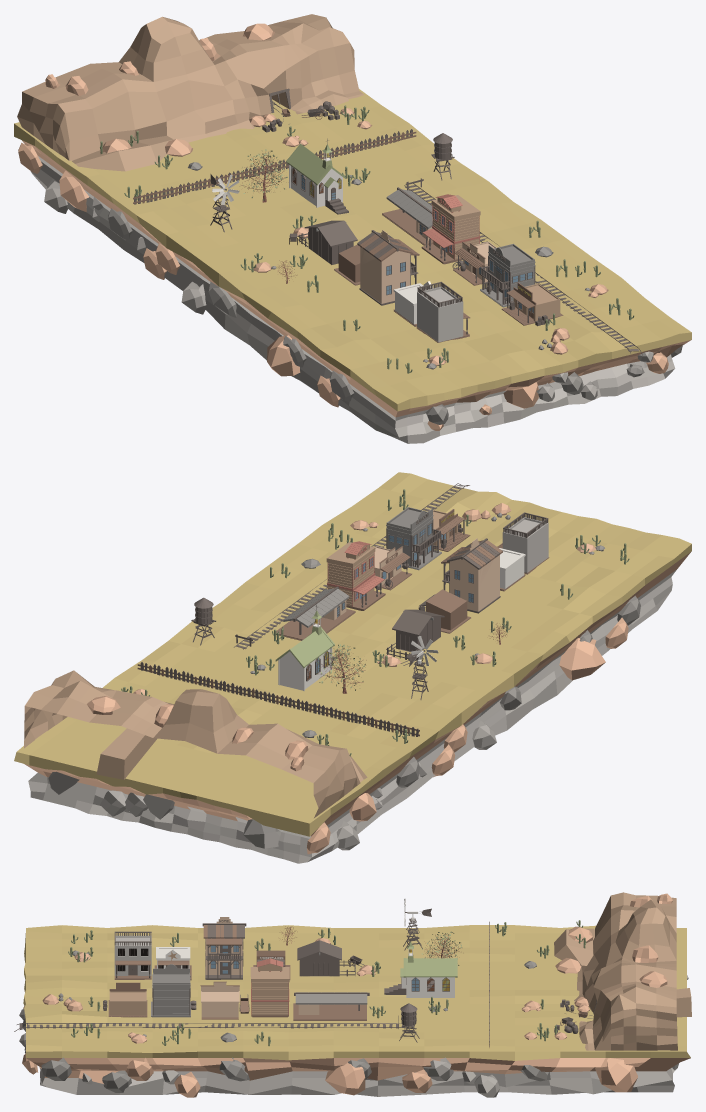
File: WesternTown.fbx
The picture shows the model from 3 angles, top to bottom: view 1: azimuth 30°, elevation 25°; view 2: azimuth 150°, elevation 25°; view 3: azimuth 270°, elevation 25°; orthographic projection. The views are drawn at different scales.
Parts seen in each view (by area): view 1: WesternTown_001_Ground, WesternTown_002_Hill, WesternTown_047_Building, WesternTown_057_Building, WesternTown_084_Building, WesternTown_029_Building, WesternTown_039_Building, WesternTown_094_Fence, WesternTown_070_Building, WesternTown_067_Building, WesternTown_030_Building, WesternTown_005_Rock (+11 smaller); view 2: WesternTown_001_Ground, WesternTown_002_Hill, WesternTown_047_Building, WesternTown_057_Building, WesternTown_084_Building, WesternTown_039_Building, WesternTown_094_Fence, WesternTown_067_Building, WesternTown_029_Building, WesternTown_070_Building, WesternTown_046_Rock, WesternTown_136_Rock (+12 smaller); view 3: WesternTown_001_Ground, WesternTown_002_Hill, WesternTown_084_Building, WesternTown_047_Building, WesternTown_057_Building, WesternTown_067_Building, WesternTown_039_Building, WesternTown_029_Building, WesternTown_070_Building, WesternTown_048_Building, WesternTown_049_Track, WesternTown_030_Building (+15 smaller).
Boxes of the visible parts, <box> form: WesternTown_001_Ground: <box>14,89,691,443</box>; WesternTown_002_Hill: <box>17,14,363,171</box>; WesternTown_047_Building: <box>357,230,419,305</box>; WesternTown_057_Building: <box>421,194,480,264</box>; WesternTown_084_Building: <box>286,138,348,214</box>; WesternTown_029_Building: <box>416,281,470,342</box>; WesternTown_039_Building: <box>480,243,535,307</box>; WesternTown_094_Fence: <box>133,129,416,204</box>; WesternTown_070_Building: <box>289,220,357,264</box>; WesternTown_067_Building: <box>382,187,432,245</box>; WesternTown_030_Building: <box>501,282,563,325</box>; WesternTown_005_Rock: <box>503,372,597,408</box>; WesternTown_001_Ground: <box>14,472,691,863</box>; WesternTown_002_Hill: <box>24,670,367,817</box>; WesternTown_047_Building: <box>441,538,502,613</box>; WesternTown_057_Building: <box>326,541,385,610</box>; WesternTown_084_Building: <box>275,605,335,690</box>; WesternTown_039_Building: <box>386,507,441,570</box>; WesternTown_094_Fence: <box>137,662,419,736</box>; WesternTown_067_Building: <box>276,586,355,640</box>; WesternTown_029_Building: <box>497,512,549,574</box>; WesternTown_070_Building: <box>377,609,444,666</box>; WesternTown_046_Rock: <box>559,630,605,680</box>; WesternTown_136_Rock: <box>100,790,174,819</box>; WesternTown_001_Ground: <box>23,925,690,1096</box>; WesternTown_002_Hill: <box>554,892,691,1050</box>; WesternTown_084_Building: <box>384,941,457,997</box>; WesternTown_047_Building: <box>202,917,246,979</box>; WesternTown_057_Building: <box>250,958,289,1017</box>; WesternTown_067_Building: <box>293,992,369,1020</box>; WesternTown_039_Building: <box>151,964,196,1017</box>; WesternTown_029_Building: <box>114,931,151,979</box>; WesternTown_070_Building: <box>297,940,375,976</box>; WesternTown_048_Building: <box>200,981,249,1019</box>; WesternTown_049_Track: <box>14,1023,404,1031</box>; WesternTown_030_Building: <box>108,982,147,1017</box>.
Size of the model in its own units: 81.17 by 33.88 by 164.
Materials: 20 (5 with a texture image).
